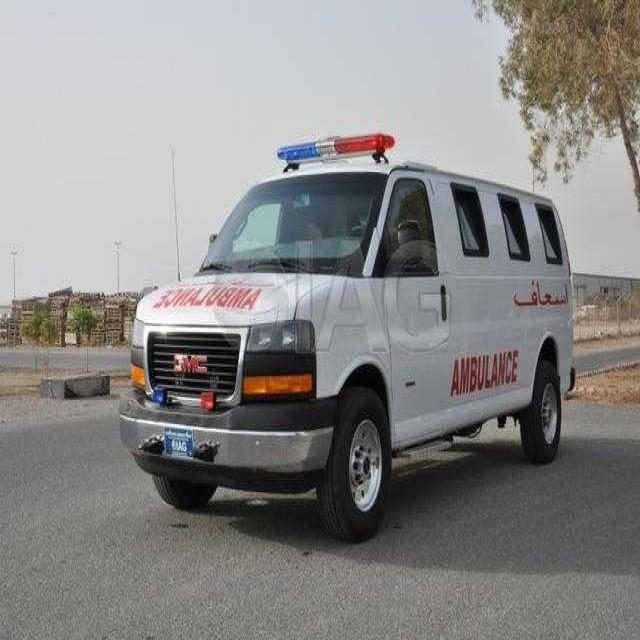ambulance: (100, 95, 593, 586)
